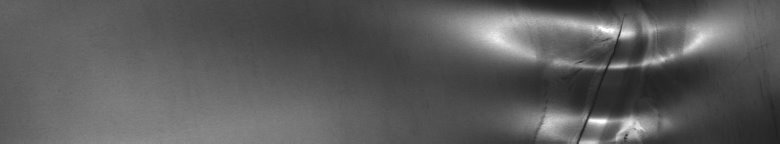ke: (544, 8, 692, 136)
